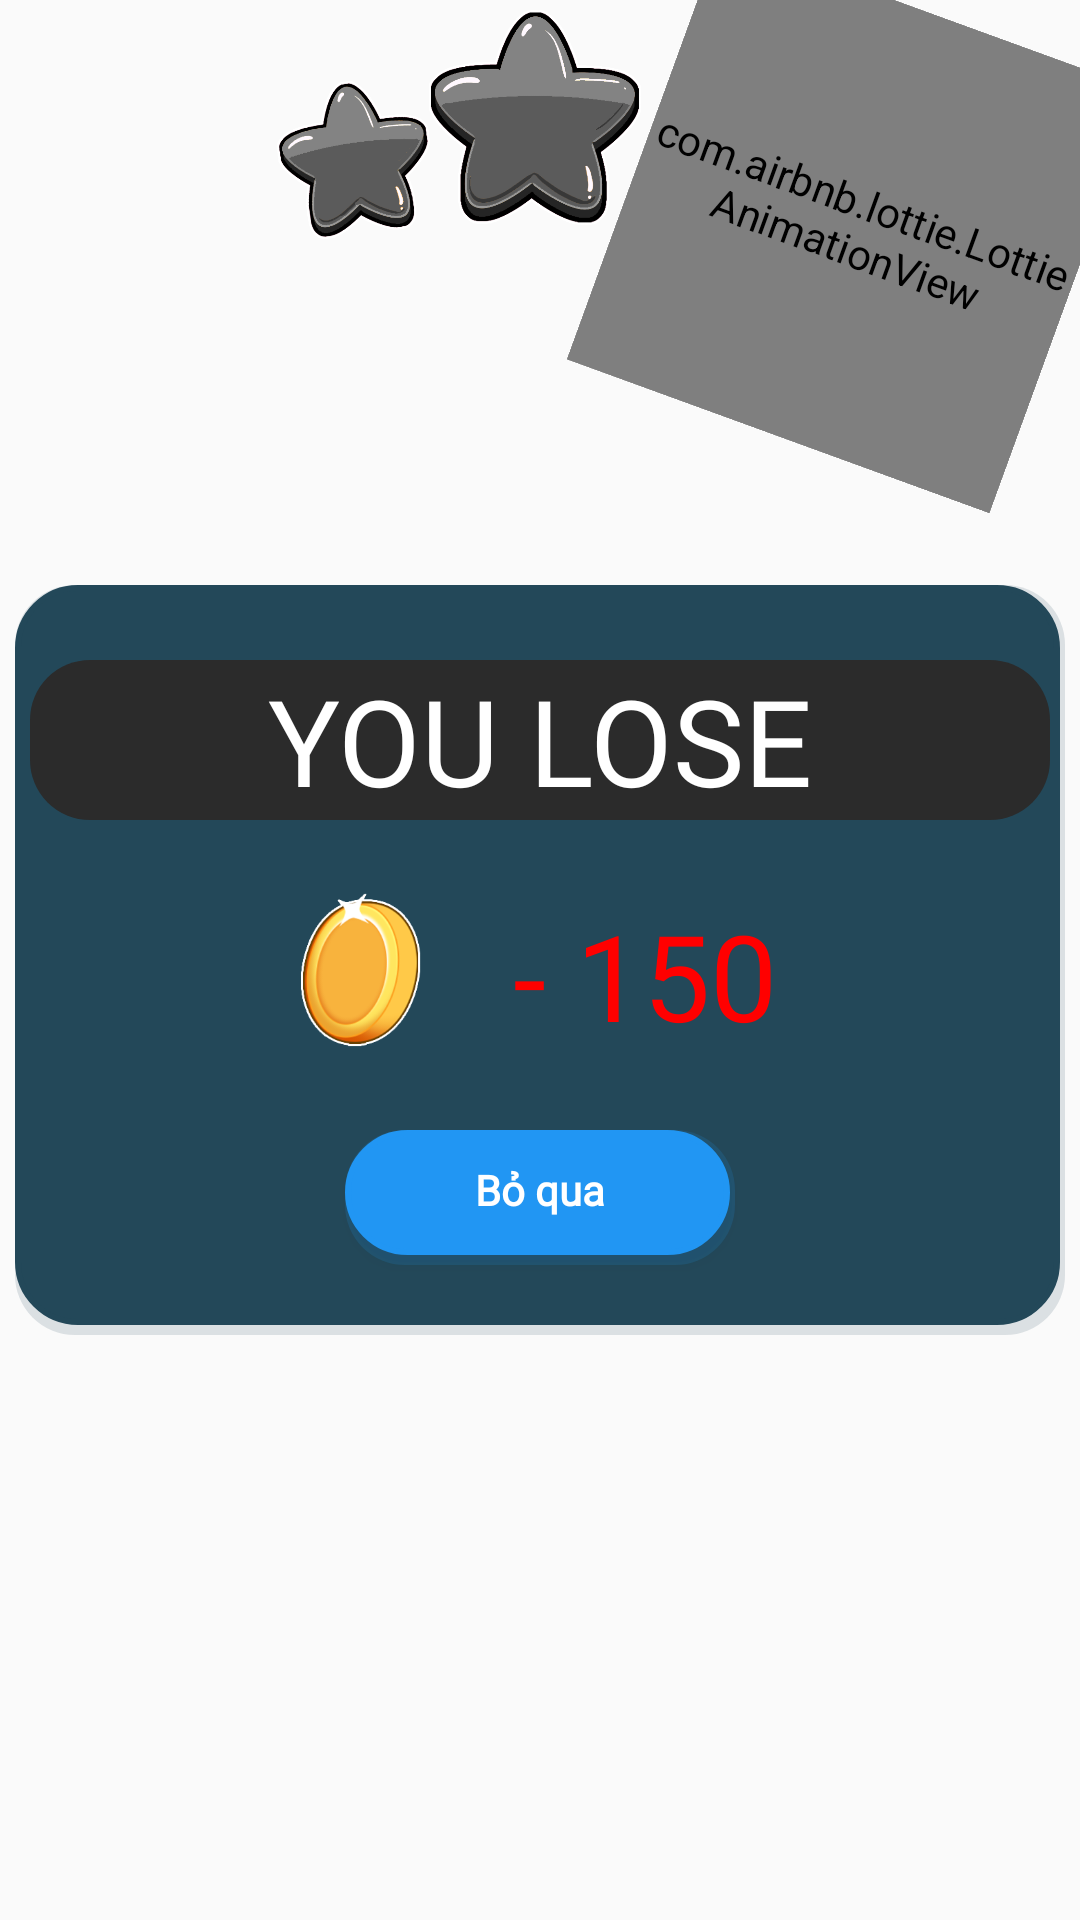

Icons on this 1080w x 1920h Android screen, each with the point to tap as [x,y]:
coin: [361,970]
